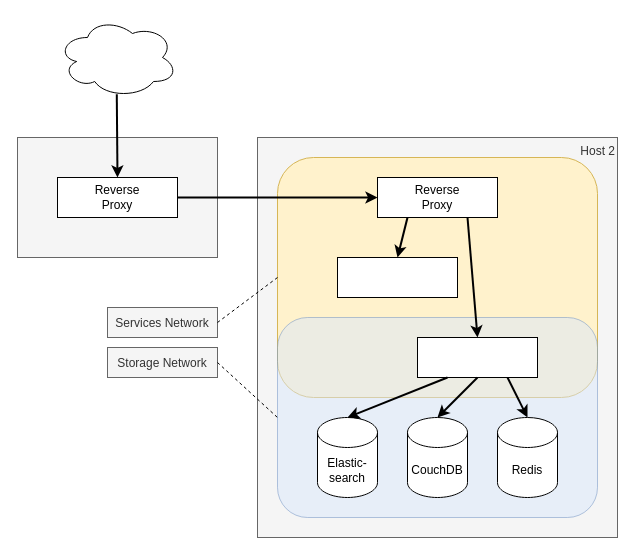
Image size: 635x555. Some labels were removed from this diagram. The shapes that lost their labels are listed below. From the top down, each one's box as (x1, y1, x2, y2) in pixels, then its label:
(56, 16, 178, 98): Clients
(16, 136, 218, 258): Host 1
(336, 256, 458, 298): Frontend
(416, 336, 538, 378): Backend
